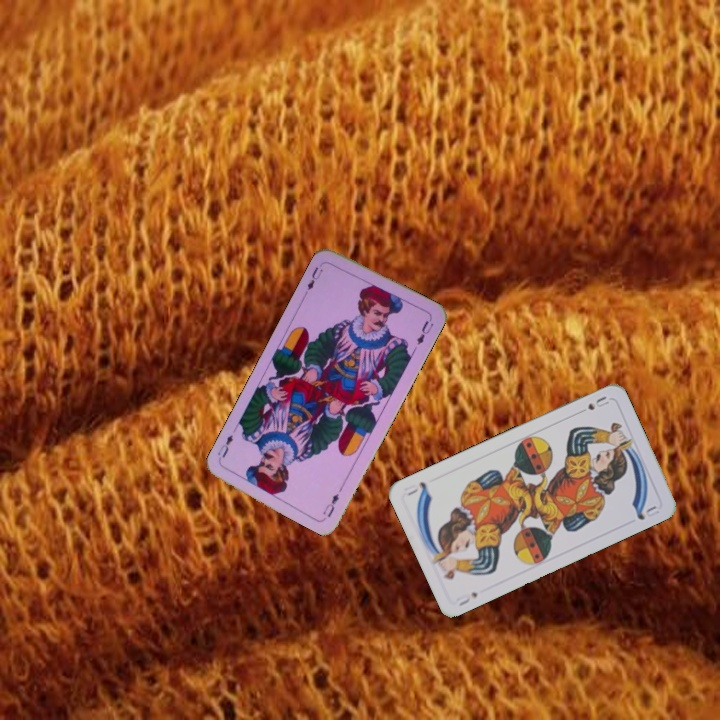EU: (303, 259, 327, 293), (319, 489, 342, 520)
SU: (583, 392, 612, 413), (452, 588, 480, 609)
